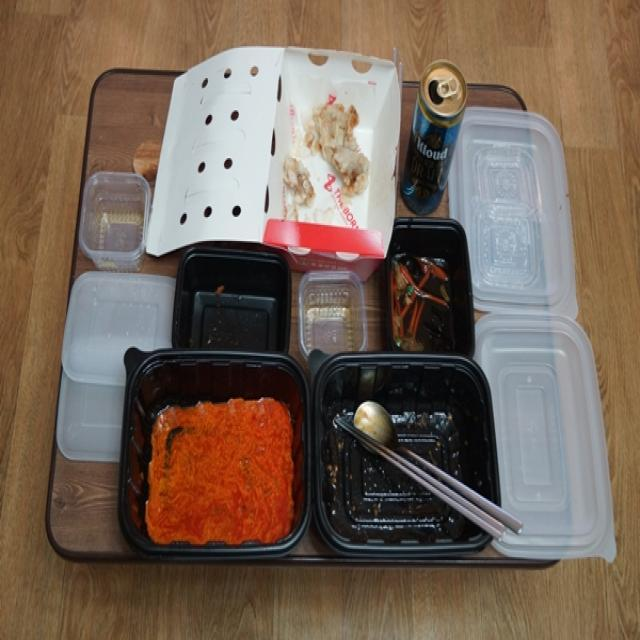container: (107, 329, 326, 585), (315, 345, 510, 612)
